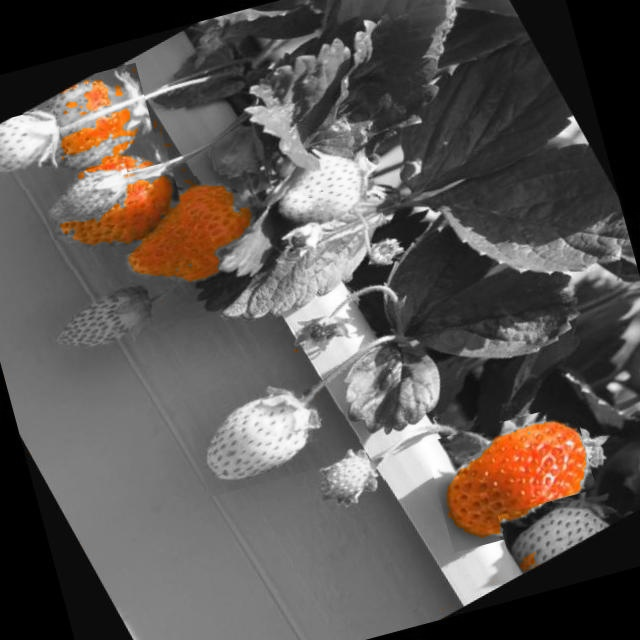ripe: (102, 158, 290, 320), (424, 402, 602, 552), (31, 130, 190, 271), (17, 62, 162, 194)
unripe: (181, 365, 332, 497), (254, 132, 386, 252), (39, 278, 163, 378), (498, 486, 624, 576), (39, 158, 140, 240), (302, 436, 390, 516), (0, 105, 71, 203)
